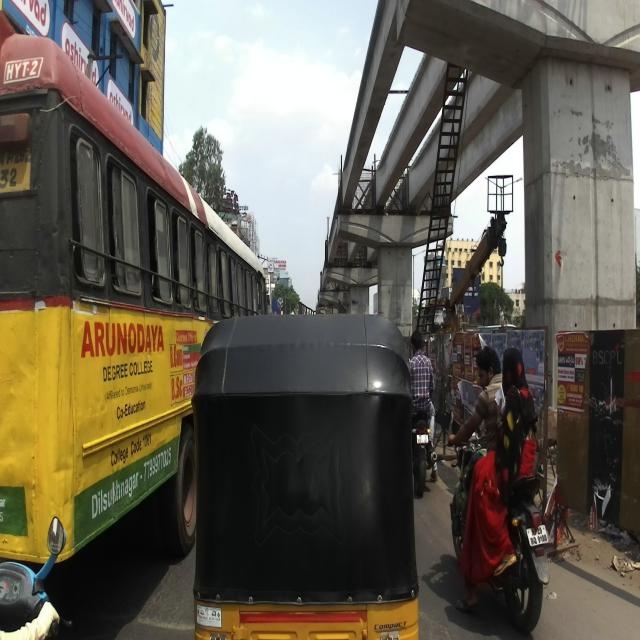autorickshaw: (191, 313, 418, 639)
bus: (0, 32, 270, 586)
motorcycle: (444, 426, 549, 634)
